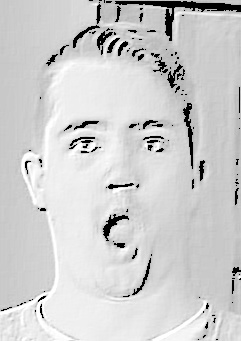nose_M_C: (101, 145, 141, 208)
